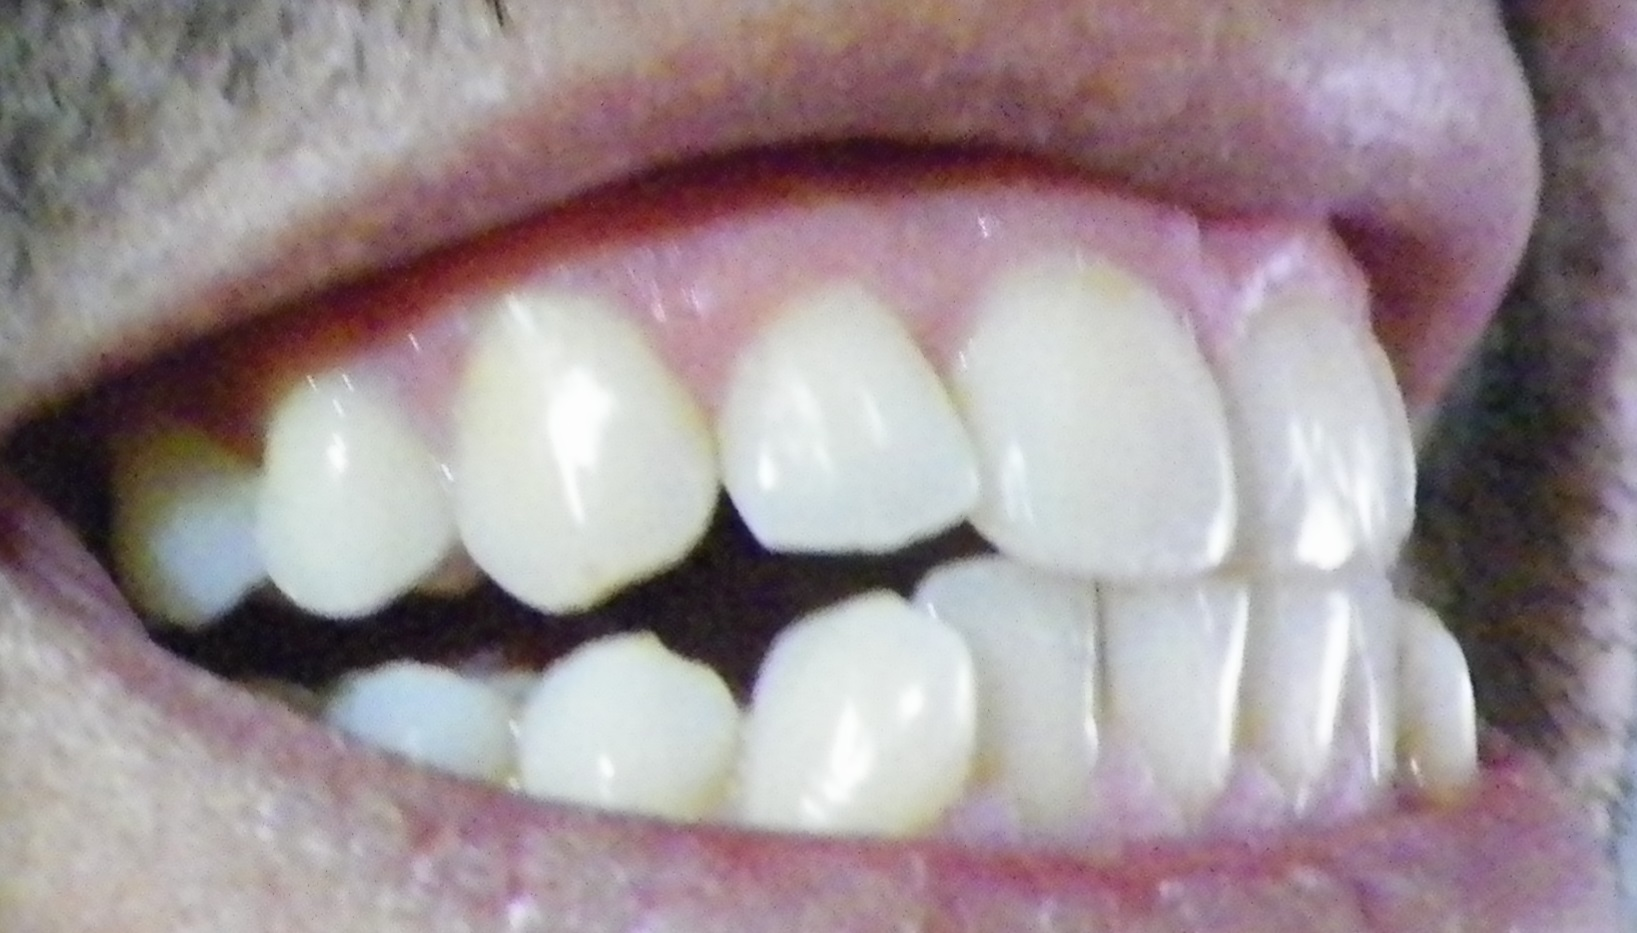boca: (132, 292, 1501, 809)
